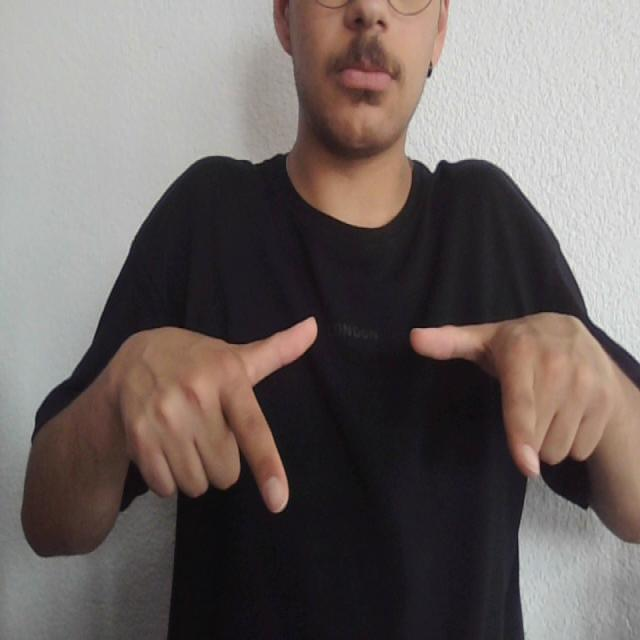Nerede: (209, 302, 546, 532)
